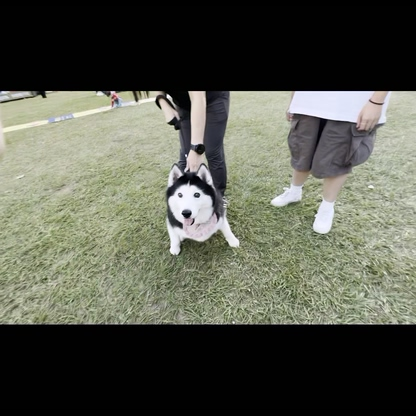husky: (162, 159, 244, 258)
